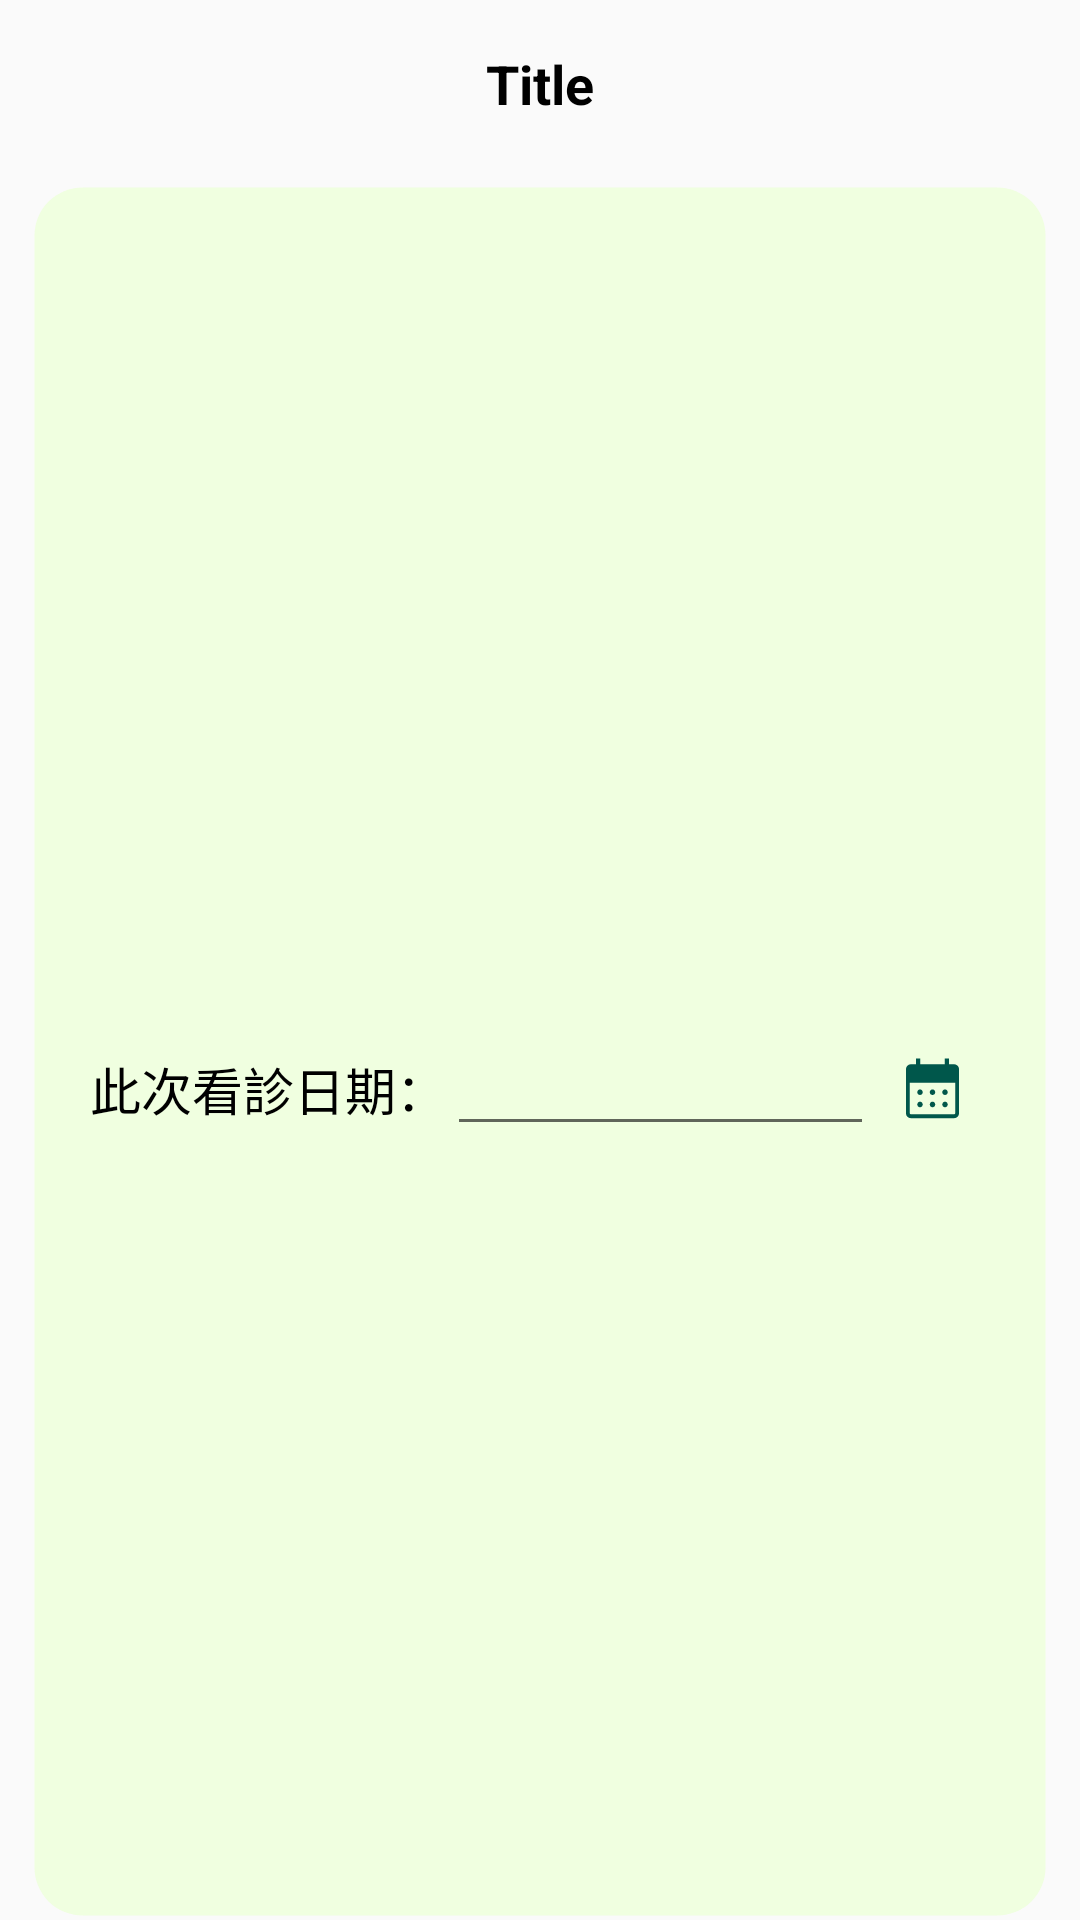

Point at icon controls on the screen. Image size 1080px x 1920px, points as point (x, y).
calendar: point (932, 1088)
